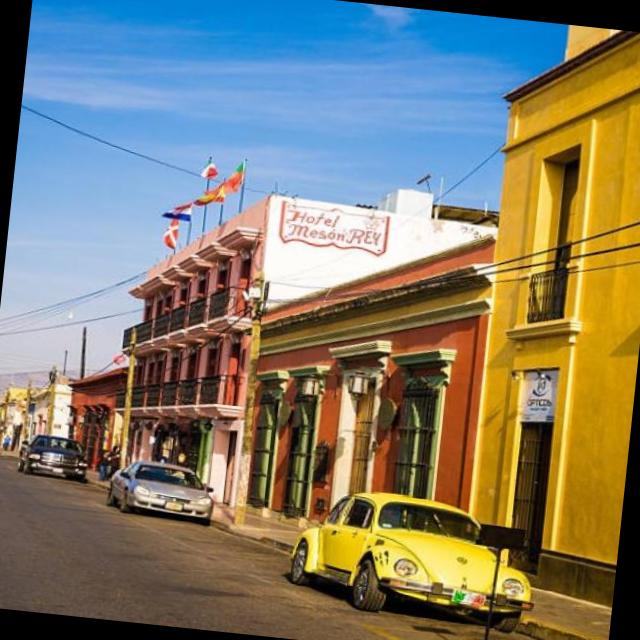car: (275, 488, 543, 628), (107, 459, 214, 526), (8, 424, 91, 484)
